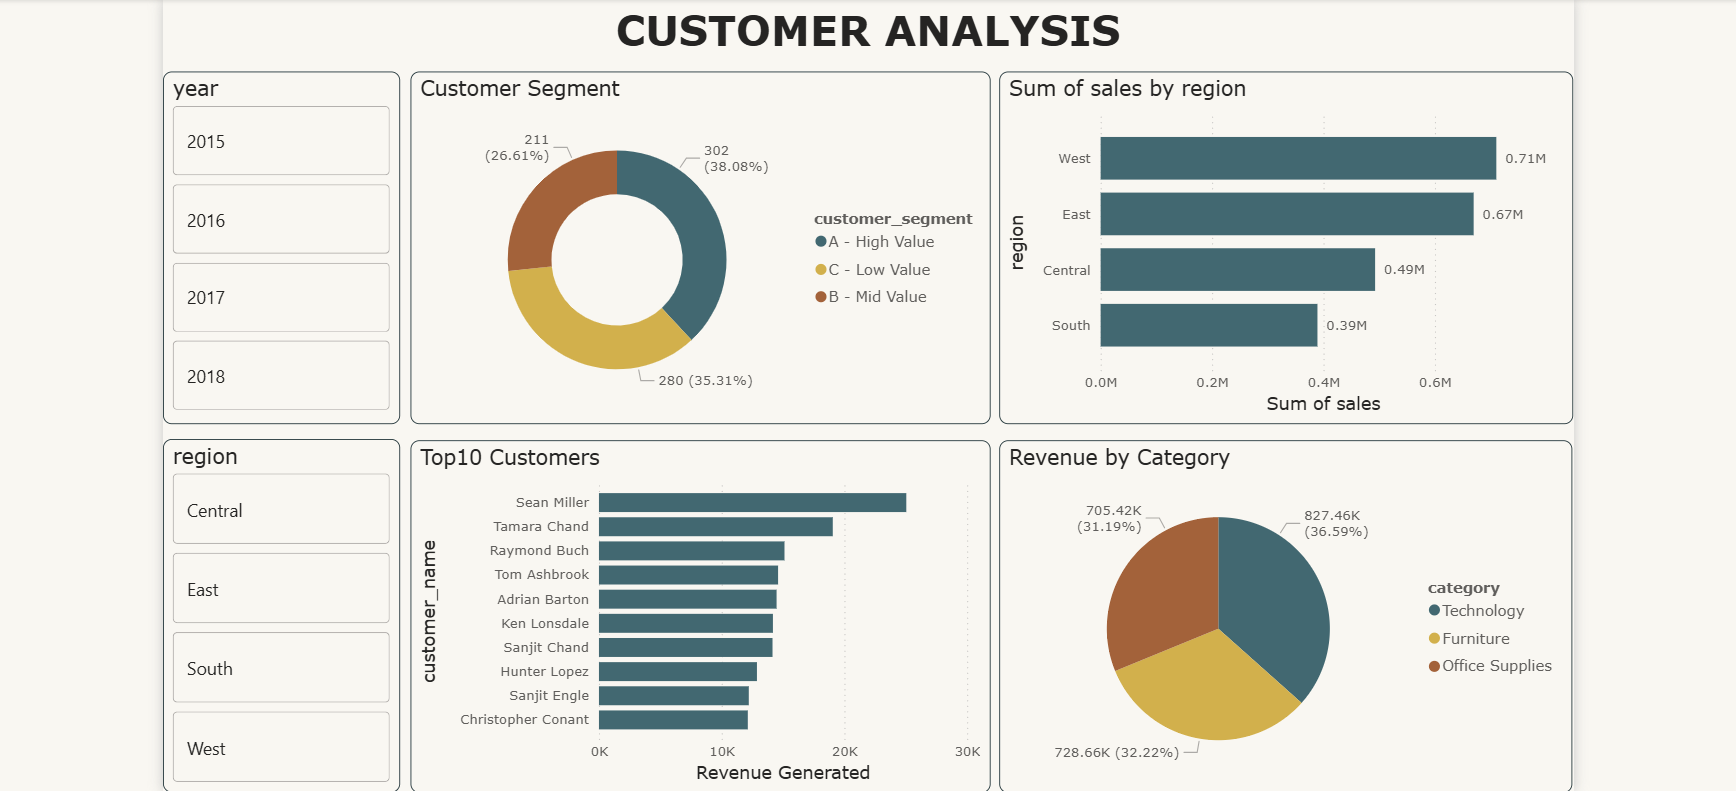

Layout of this report page (visuals, bound fields, positions):
{"tool":"powerbi","page":{"name":"Customer Analysis","canvas":[1280,720],"ordinal":1},"visuals":[{"type":"textbox","box":[0,0,1279.6,63.2],"z":0},{"type":"advancedSlicerVisual","fields":{"Values":["Main_Sales.year"]},"box":[0,65.8,215.5,319.9],"z":1000},{"type":"advancedSlicerVisual","fields":{"Values":["Main_Sales.region"]},"box":[0,399.2,215.5,321],"z":2000},{"type":"clusteredBarChart","fields":{"Category":["Main_Sales.region"],"Y":["Sum(Main_Sales.sales)"]},"box":[758.8,65.8,520.6,319.9],"z":3000},{"type":"clusteredBarChart","title":"Top10 Customers","fields":{"Category":["Main_Sales.customer_name"],"Y":["Sum(Main_Sales.sales)"]},"box":[224.6,400.4,526.3,319.9],"z":4000},{"type":"pieChart","title":"Revenue by Category","fields":{"Category":["Main_Sales.category"],"Y":["Sum(Main_Sales.sales)"]},"box":[759,400,520,320],"z":5000},{"type":"donutChart","title":"Customer Segment","fields":{"Category":["Customer_Segments.customer_segment"],"Y":["CountNonNull(Customer_Segments.total_revenue)"]},"box":[224.6,65.8,526.3,319.9],"z":6000}]}

Visuals, with their boxes on the page's 1280x720 design canvas (x1, y1, x2, y2). These are canvas units, not pixel positions in the 1736x791 screenshot, which may show the page scaled, cropped or inside an application window:
textbox: <bbox>0, 0, 1280, 63</bbox>
advancedSlicerVisual - Main_Sales.year: <bbox>0, 66, 216, 386</bbox>
advancedSlicerVisual - Main_Sales.region: <bbox>0, 399, 216, 720</bbox>
clusteredBarChart - Main_Sales.region x Sum(Main_Sales.sales): <bbox>759, 66, 1279, 386</bbox>
"Top10 Customers" clusteredBarChart: <bbox>225, 400, 751, 720</bbox>
"Revenue by Category" pieChart: <bbox>759, 400, 1279, 720</bbox>
"Customer Segment" donutChart: <bbox>225, 66, 751, 386</bbox>
